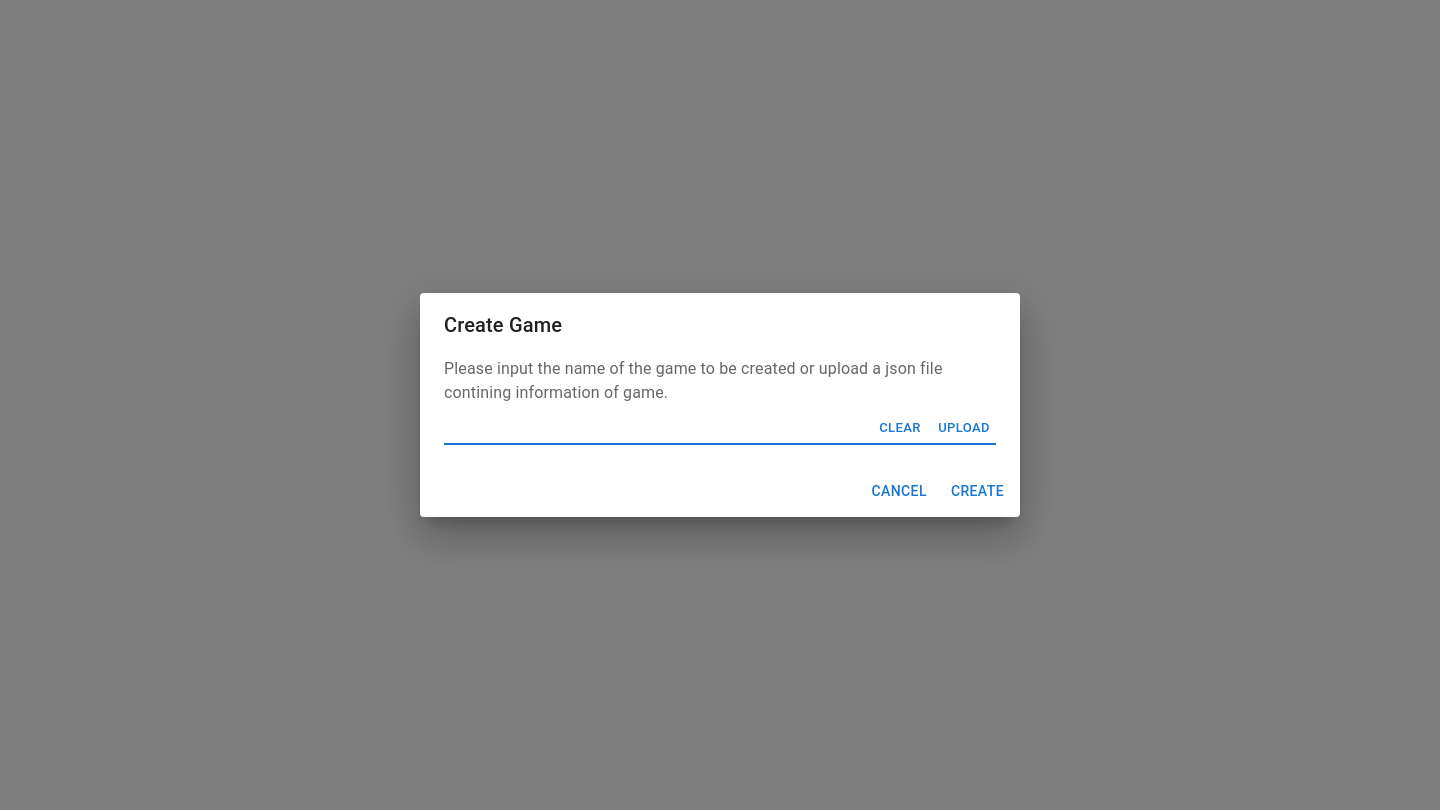
InputDialog › Function Test: TextField should be cleared when clear button is clicked
Type "Test Game" into the field at point(652, 429), box [444,413,860,445]
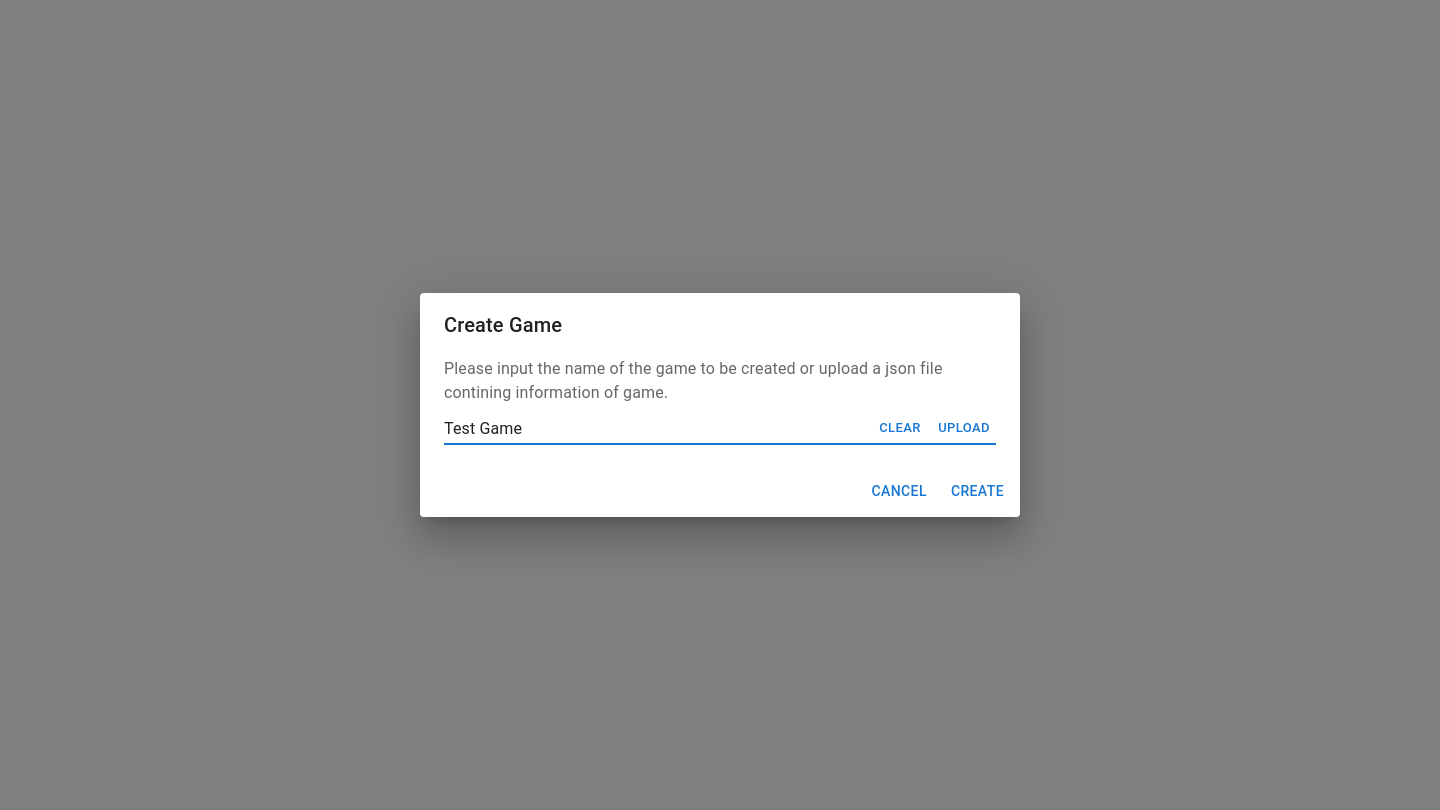
Click the button "Clear" at point(900, 429), box [868,413,932,444]
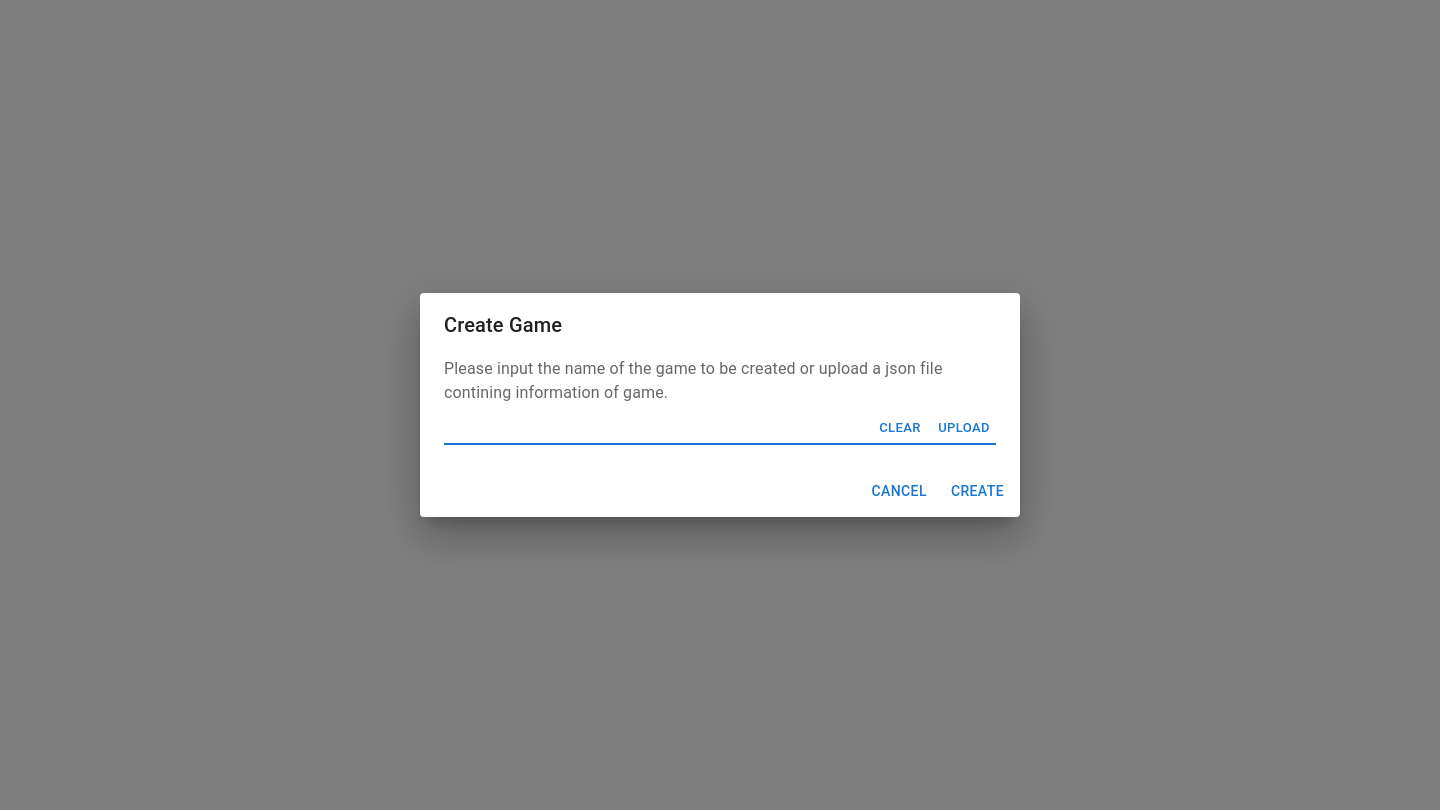
Check: the field is empty, box [444,413,860,445]
